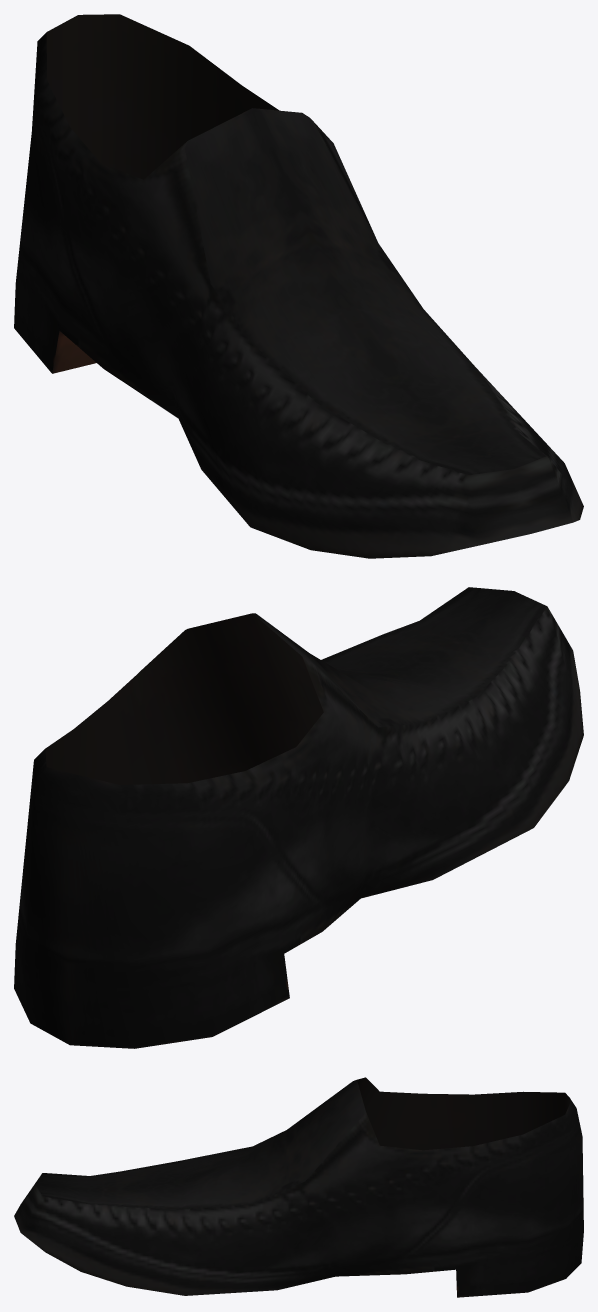
Rendered from p6_shoe_single_01_lod0.glb.
3 views of the same model, one above another, from view 1: azimuth 30°, elevation 25°; view 2: azimuth 150°, elevation 25°; view 3: azimuth 270°, elevation 25° (orthographic). The views are drawn at different scales.
Visible parts, largest first — view 1: surf0; view 2: surf0; view 3: surf0.
Boxes of the visible parts, x1=… form: surf0: x1=14, y1=14, x2=583, y2=558; surf0: x1=14, y1=587, x2=583, y2=1048; surf0: x1=14, y1=1077, x2=583, y2=1297.
Size of the model in its own units: 4.55 by 4.57 by 12.87.
